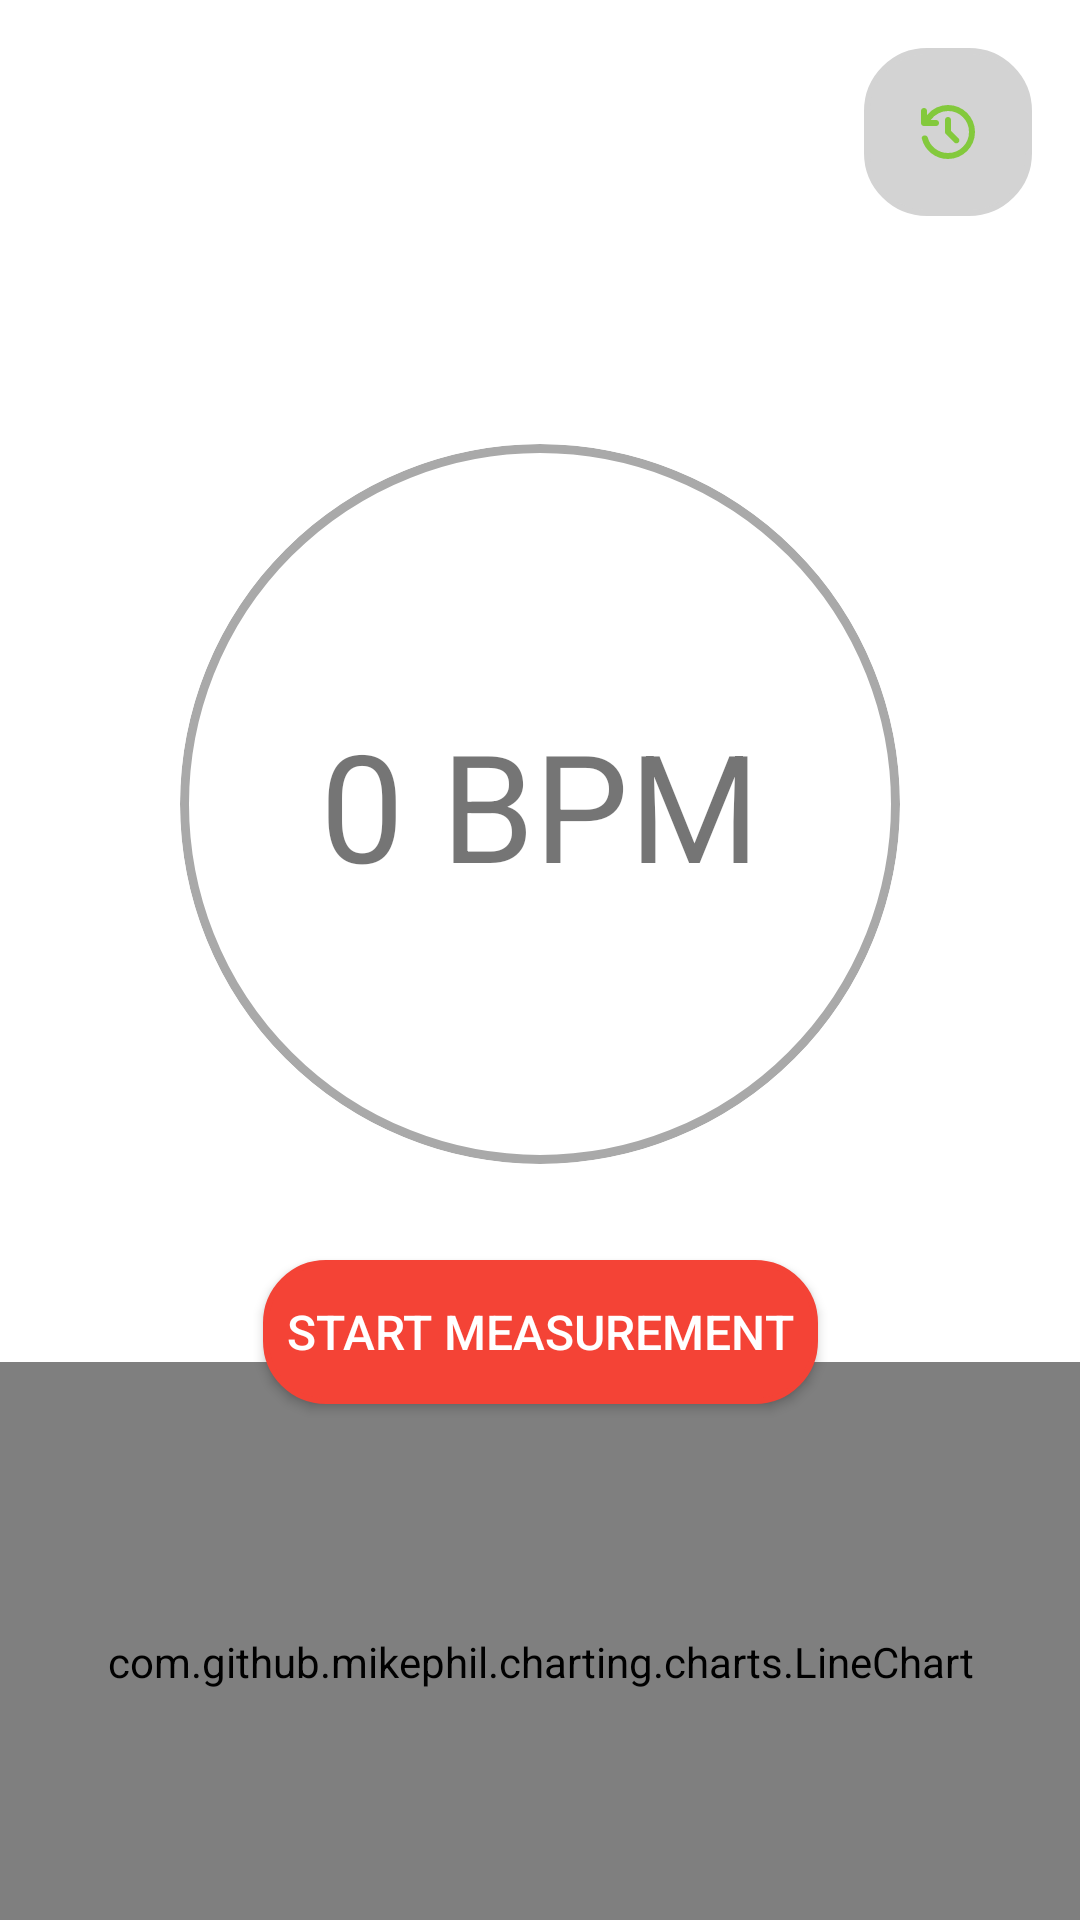

Screen size 1080*1920. Icon name, then its box in pixels as (x1, y1, x2, y2):
history: (921, 105, 975, 159)
